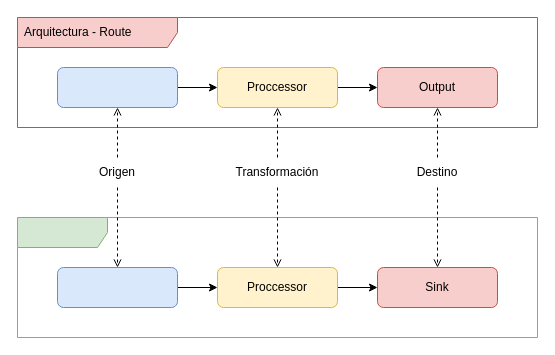
Some shapes in this 555 by 355 pixel diagram are drawn without their labels. Each missing label, with the box of its shape:
Input: (56, 66, 178, 108)
SB - Stream: (16, 216, 538, 338)
Source: (56, 266, 178, 308)
